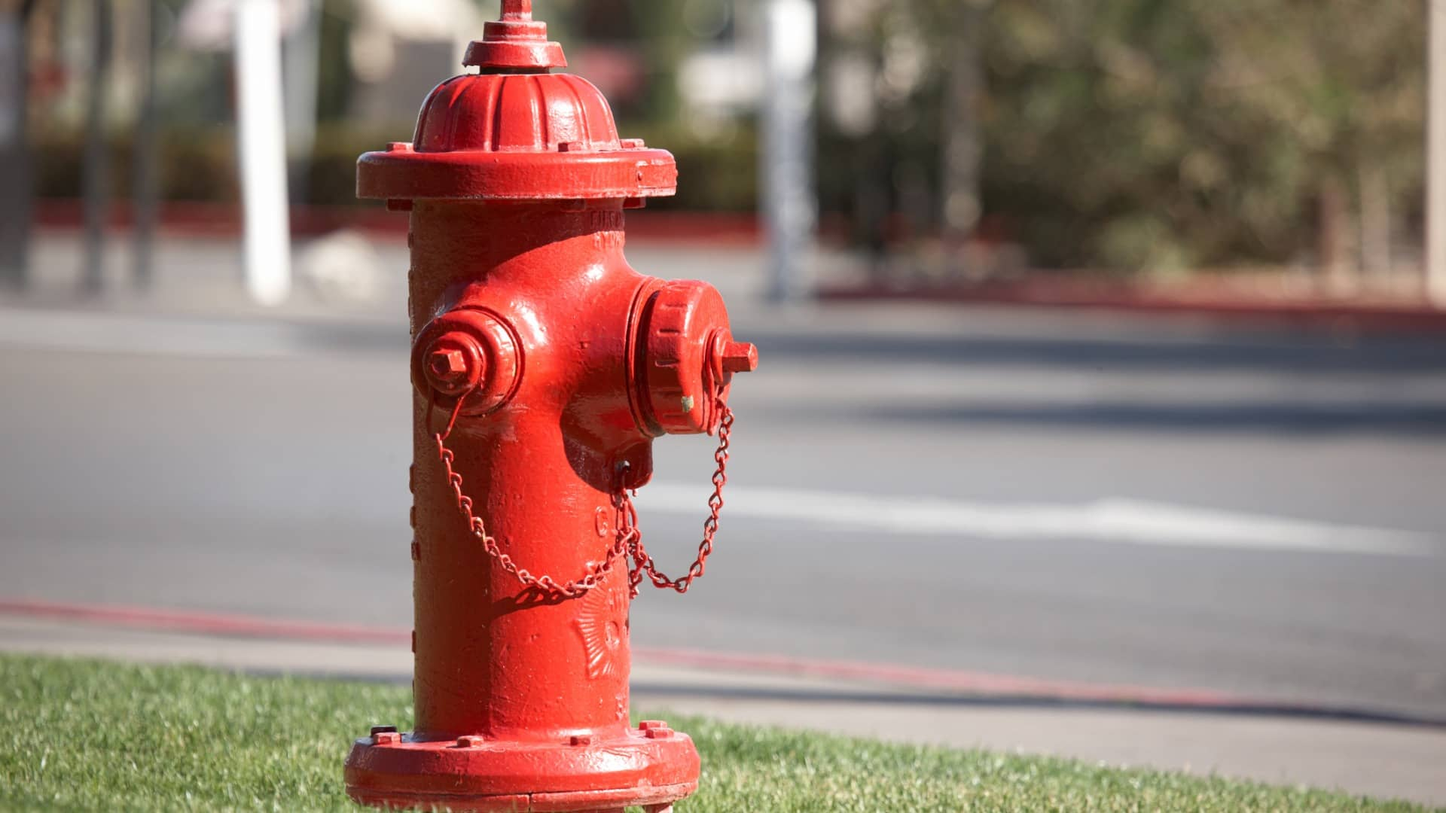FireHydrant: (332, 11, 761, 807)
